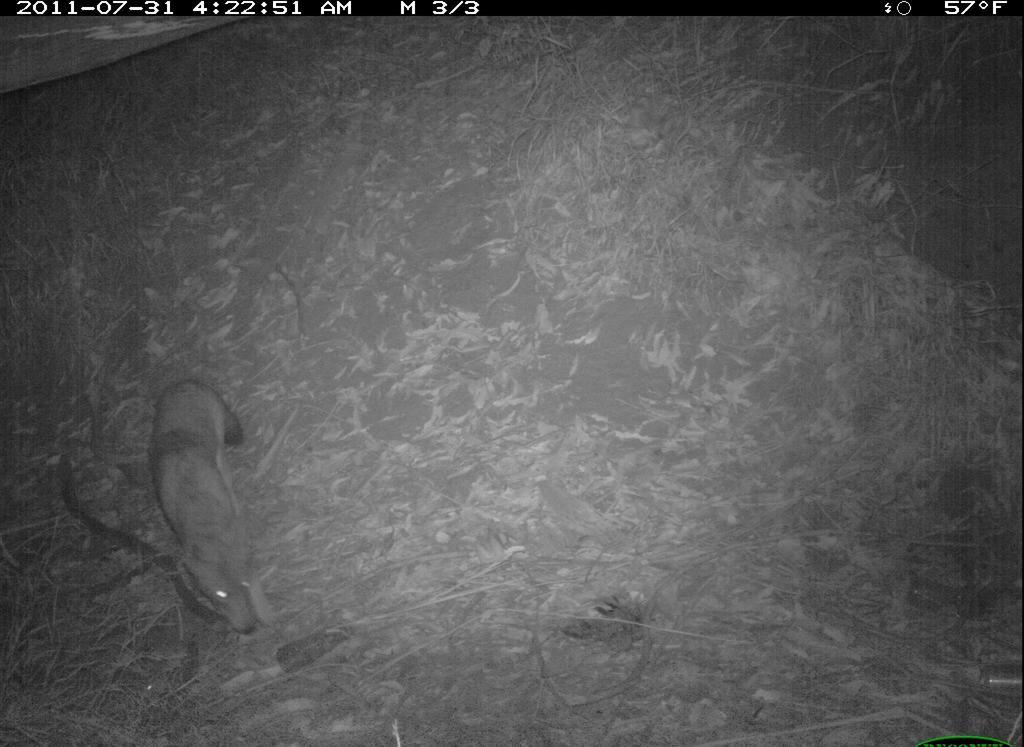coyote: (127, 351, 304, 648)
